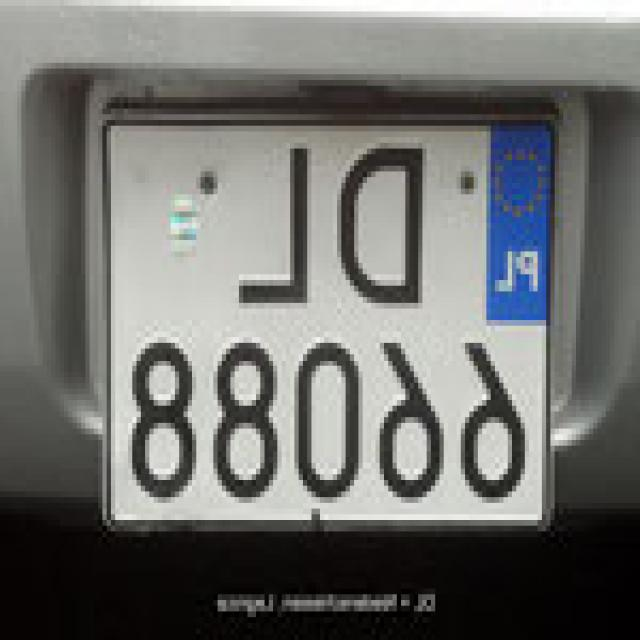pl_license_plate: (115, 114, 555, 514)
